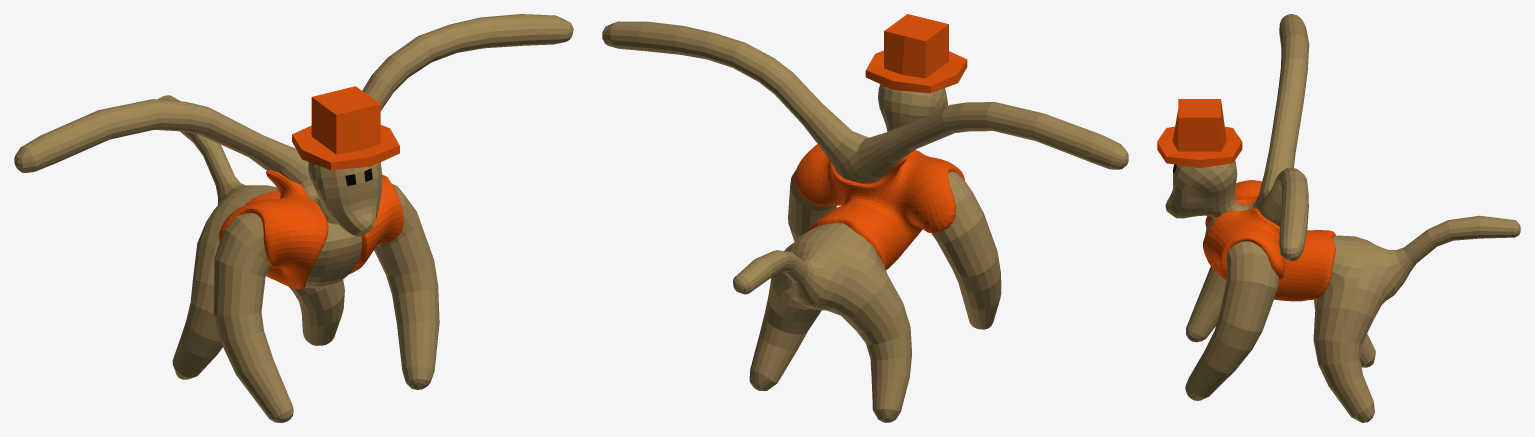
File: MonkeyPose1.fbx
3 views of the same model, side by side, from view 1: azimuth 30°, elevation 25°; view 2: azimuth 150°, elevation 25°; view 3: azimuth 270°, elevation 25° (orthographic). The views are drawn at different scales.
Visible parts, largest first — view 1: MonkeyV2_1_Group55563, vest_Group43996, pCube1; view 2: MonkeyV2_1_Group55563, vest_Group43996, pCube1; view 3: MonkeyV2_1_Group55563, vest_Group43996, pCube1.
Boxes of the visible parts, <box> form: MonkeyV2_1_Group55563: <box>14,14,573,422</box>; vest_Group43996: <box>218,170,403,289</box>; pCube1: <box>292,86,399,170</box>; MonkeyV2_1_Group55563: <box>602,21,1128,422</box>; vest_Group43996: <box>795,144,964,270</box>; pCube1: <box>865,14,967,93</box>; MonkeyV2_1_Group55563: <box>1165,14,1520,422</box>; vest_Group43996: <box>1203,180,1335,301</box>; pCube1: <box>1157,99,1242,168</box>.
Bounding box in the file's own units: 11.97 × 6.83 × 7.89.
